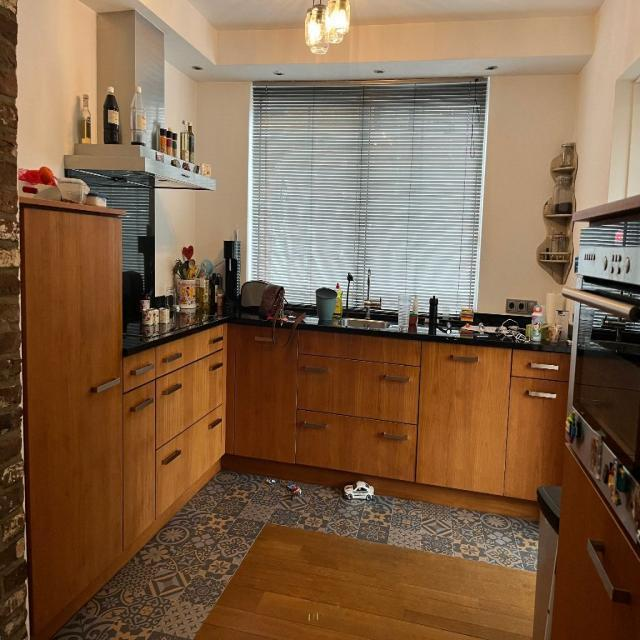cabinet_door: (27, 214, 126, 598), (424, 354, 507, 486), (559, 517, 640, 640), (227, 329, 298, 459), (301, 361, 416, 411), (511, 385, 564, 491), (302, 416, 414, 465), (127, 389, 156, 528), (156, 436, 190, 490), (157, 376, 190, 430), (192, 417, 223, 470), (195, 356, 225, 407), (518, 353, 567, 379), (190, 329, 231, 353), (156, 343, 191, 370), (126, 356, 156, 384)
handle: (583, 532, 635, 608), (558, 283, 640, 322), (92, 375, 120, 399), (128, 361, 160, 382), (524, 384, 559, 403), (376, 427, 409, 446), (379, 371, 412, 390), (129, 396, 155, 418), (447, 350, 480, 367), (250, 333, 282, 350), (525, 358, 559, 373), (205, 355, 228, 376), (162, 445, 183, 467), (161, 381, 183, 400), (302, 361, 326, 378), (163, 349, 185, 367), (302, 418, 327, 433), (201, 417, 223, 434), (207, 335, 224, 349)
